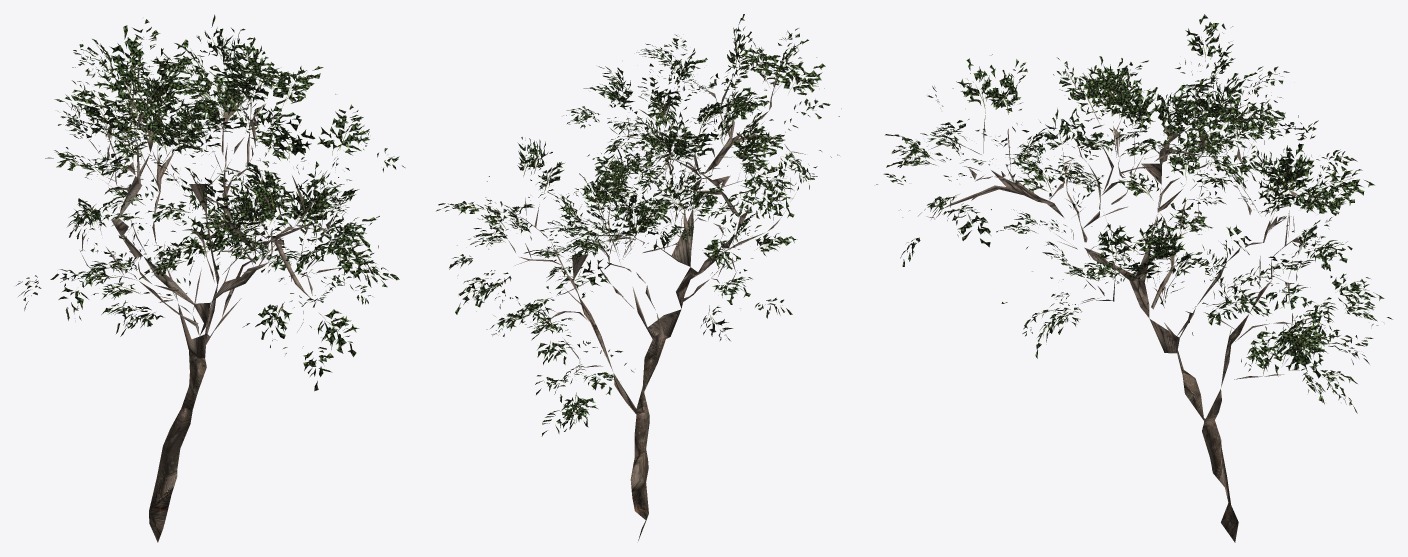
Rendered from tree_small_02.glb.
3 renders of one model, left to right at view 1: azimuth 30°, elevation 25°; view 2: azimuth 150°, elevation 25°; view 3: azimuth 270°, elevation 25°, orthographic. The views are drawn at different scales.
Parts seen in each view (by area): view 1: tree_small_02_LOD0; view 2: tree_small_02_LOD0; view 3: tree_small_02_LOD0.
Part boxes in pixels (x1,y1,x2,y2): tree_small_02_LOD0: [16, 14, 405, 542]; tree_small_02_LOD0: [436, 14, 841, 540]; tree_small_02_LOD0: [876, 14, 1392, 542].
Size of the model in its own units: 2.88 by 4.35 by 4.2.
3 materials, 3 textured.
